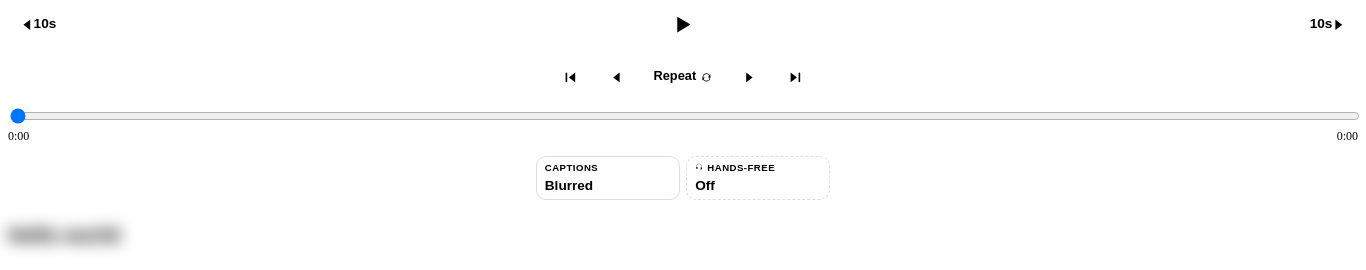
LessonPlayer › sentence controls › clicking the toggle cycles Off -> On -> Repeat -> Off
The image size is (1366, 270).
Click the button with class "hands-free-toggle". click: (758,178)
box: [686,156,830,200]
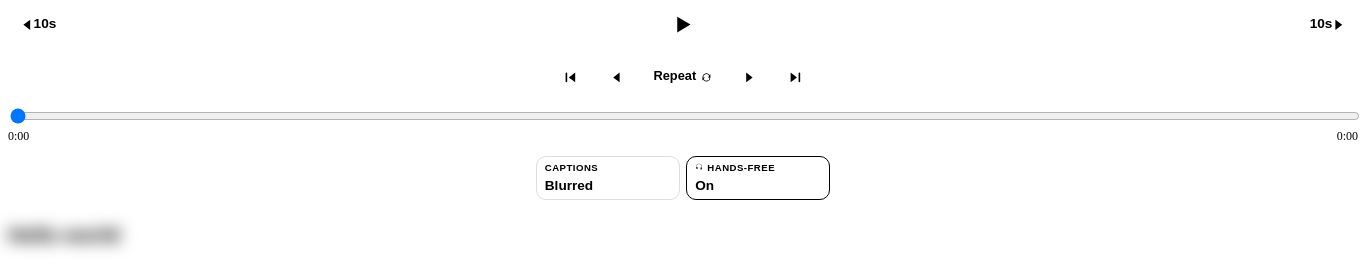
Expected: the button with class "hands-free-toggle" is pressed
Click the button with class "hands-free-toggle". click: (758,178)
box: [686,156,830,200]
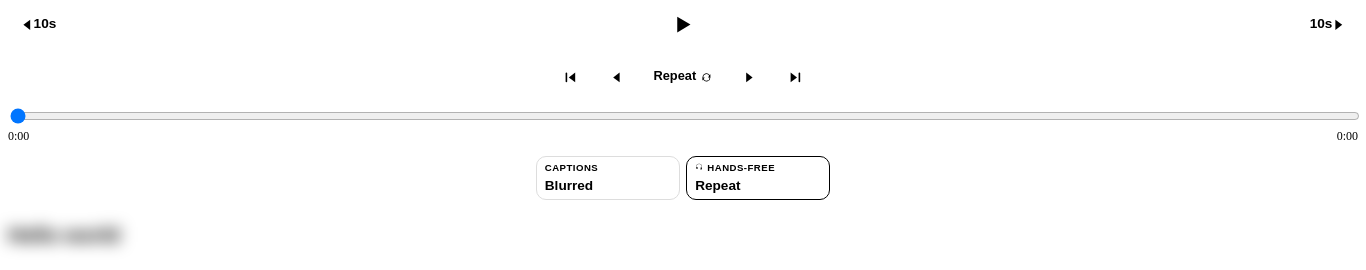
Expected: the button "Repeat" is shown, [643,58,723,94]
Expected: the button with class "hands-free-toggle" is pressed
Click the button with class "hands-free-toggle". click: (758,178)
box: [686,156,830,200]
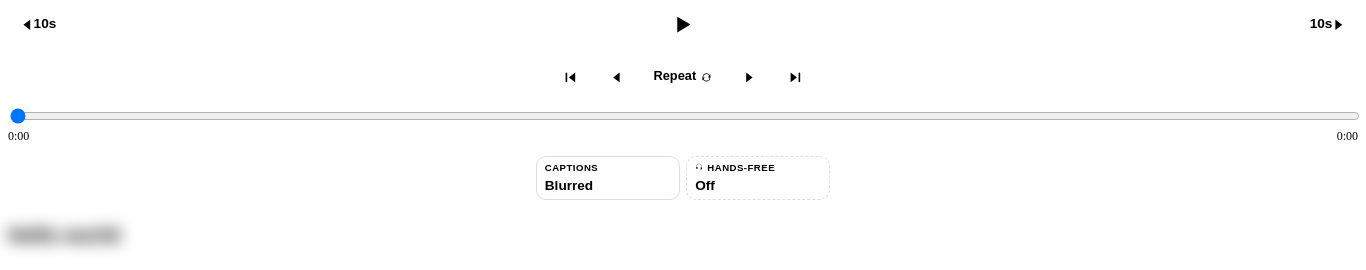
Expected: the text with class "chip-value" reads "Off", [695,178,715,193]
